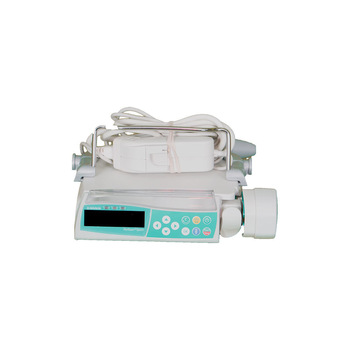BBraun Infusomat Space: (69, 171, 224, 248)
